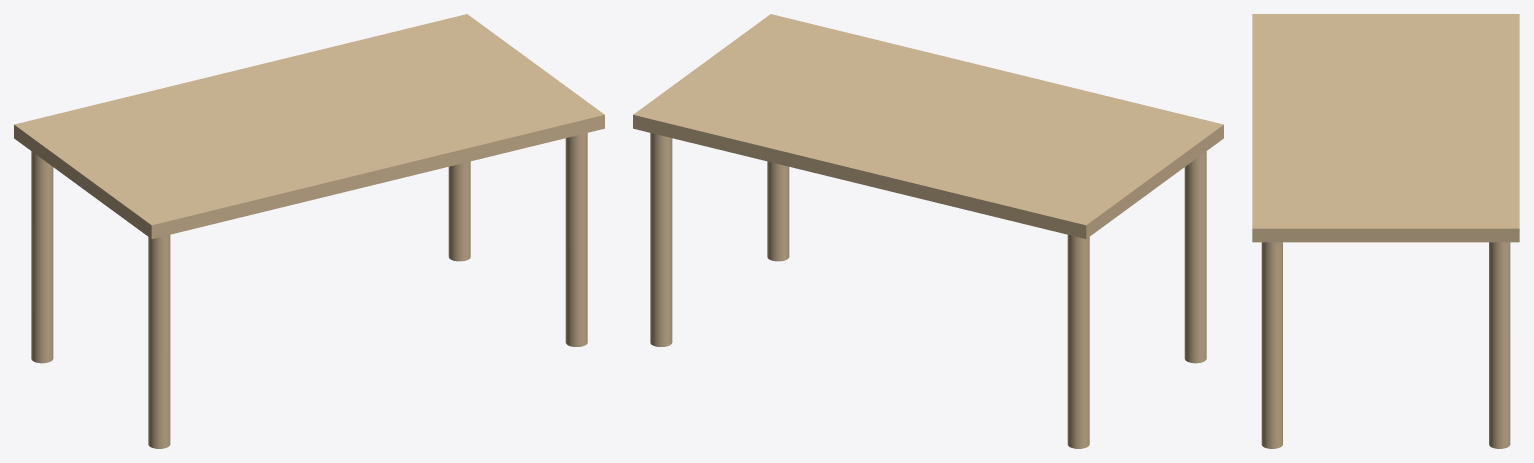
File: ikea-norden-50514846-g2-proxy.glb
3 renders of one model, left to right at view 1: azimuth 30°, elevation 25°; view 2: azimuth 150°, elevation 25°; view 3: azimuth 270°, elevation 25°, orthographic. The views are drawn at different scales.
Visible parts, largest first — view 1: proxy_body, leg (×4); view 2: proxy_body, leg (×4); view 3: proxy_body, leg (×2).
Boxes of the visible parts, x1,y1,x2,y2 form: proxy_body: (14, 14, 604, 238); leg (×4): (31, 133, 587, 448); proxy_body: (633, 14, 1223, 238); leg (×4): (650, 133, 1206, 448); proxy_body: (1252, 14, 1519, 242); leg (×2): (1261, 242, 1510, 448).
Bounding box in the file's own units: 1.52 × 0.74 × 0.8.
